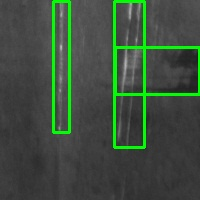inclusion: (115, 47, 199, 94)
scratches: (114, 1, 144, 147), (53, 1, 69, 132)
